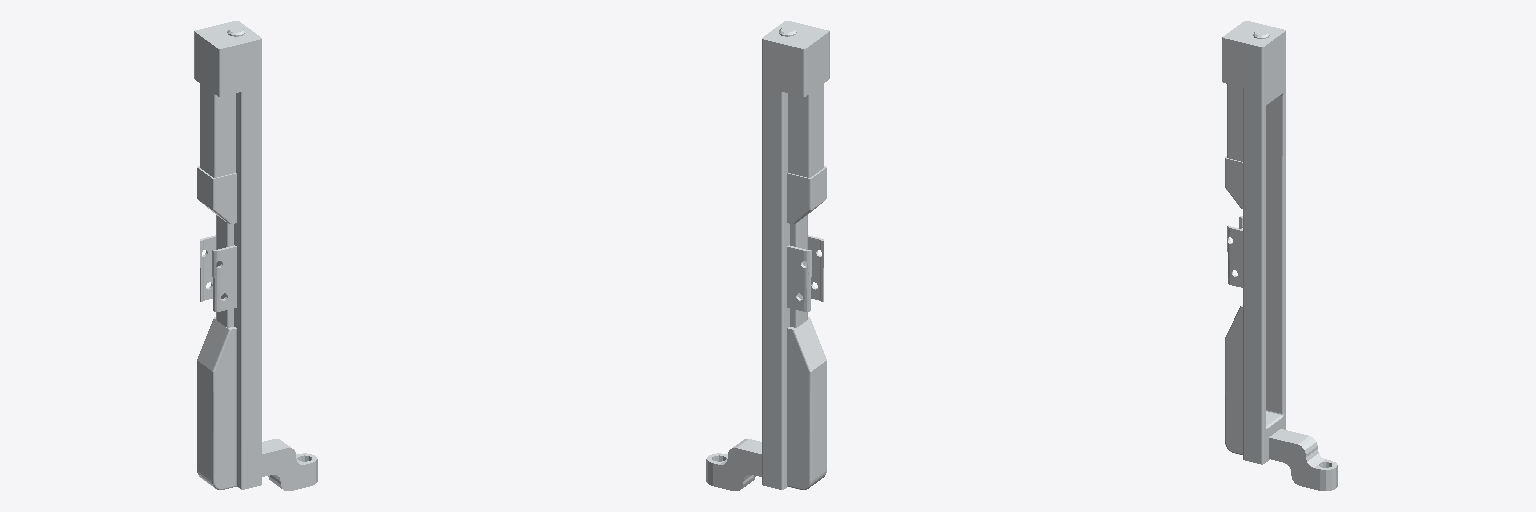
The robot description file, URDF, robot "ecm":
<?xml version="1.0" encoding="utf-8"?>
<!-- =================================================================================== -->
<!-- |    This document was autogenerated by xacro from ecm_launch.urdf.xacro          | -->
<!-- |    EDITING THIS FILE BY HAND IS NOT RECOMMENDED                                 | -->
<!-- =================================================================================== -->
<robot name="ecm">

    <!--  <link name="world"/>-->

    <link name="ecm_base_link">
        <inertial>
            <origin rpy="0 0 0" xyz="-0.0048227 0 0.068959"/>
            <mass value="2.6363"/>
            <inertia ixx="0" ixy="0" ixz="0" iyy="0" iyz="0" izz="0"/>
        </inertial>
        <visual>
            <origin rpy="0 0 0" xyz="0 0 0"/>
            <geometry>
                <mesh filename="meshes/visual/base_link.STL"/>
            </geometry>
            <material name="">
                <color rgba="0.64706 0.61961 0.58824 1"/>
            </material>
        </visual>
        <collision>
            <origin rpy="0 0 0" xyz="0 0 0"/>
            <geometry>
                <mesh filename="meshes/collision/base_link.STL"/>
            </geometry>
        </collision>
    </link>

    <link name="ecm_yaw_link">
        <inertial>
            <origin rpy="0 0 0" xyz="0 -0.029045 0.10669"/>
            <mass value="6.4168"/>
            <inertia ixx="0.00086598" ixy="0" ixz="0" iyy="0.0016561" iyz="-0.00015825" izz="0.00085001"/>
        </inertial>
        <visual>
            <origin rpy="0 0 0" xyz="0 0 0"/>
            <geometry>
                <mesh filename="meshes/visual/yaw_link.STL"/>
            </geometry>
            <material name="">
                <color rgba="0.64706 0.61961 0.58824 1"/>
            </material>
        </visual>
        <collision>
            <origin rpy="0 0 0" xyz="0 0 0"/>
            <geometry>
                <mesh filename="meshes/collision/yaw_link.STL"/>
            </geometry>
        </collision>
    </link>

    <joint name="ecm_yaw_joint" type="revolute">
        <origin rpy="1.57079632679 0 1.57079632679" xyz="0.0732 0 0.10146"/>
        <parent link="ecm_base_link"/>
        <child link="ecm_yaw_link"/>
        <axis xyz="0 0 1"/>
        <limit effort="1000" lower="-1.595183" upper="1.581733" velocity="10"/>
    </joint>

    <link name="ecm_pitch_front_link">
        <inertial>
            <origin rpy="0 0 0" xyz="-0.030619 -0.13578 0"/>
            <mass value="1.6069"/>
            <inertia ixx="0" ixy="0" ixz="0" iyy="0" iyz="0" izz="0"/>
        </inertial>
        <visual>
            <origin rpy="0 0 0" xyz="0 0 0"/>
            <geometry>
                <mesh filename="meshes/visual/pitch_front_link.STL"/>
            </geometry>
            <material name="">
                <color rgba="0.64706 0.61961 0.58824 1"/>
            </material>
        </visual>
        <collision>
            <origin rpy="0 0 0" xyz="0 0 0"/>
            <geometry>
                <mesh filename="meshes/collision/pitch_front_link.STL"/>
            </geometry>
        </collision>
    </link>

    <joint name="ecm_pitch_front_joint" type="revolute">
        <origin rpy="3.14159265359 -1.57079632679 0" xyz="0 0 0.1990"/>
        <parent link="ecm_yaw_link"/>
        <child link="ecm_pitch_front_link"/>
        <axis xyz="0 0 1"/>
        <limit effort="1000" lower="-0.783710" upper="1.157657" velocity="10"/>
    </joint>

    <link name="ecm_pitch_bottom_link">
        <inertial>
            <origin rpy="0 0 0" xyz="0.14594 -0.026715 -0.00016488"/>
            <mass value="0.35928"/>
            <inertia ixx="0.00023901" ixy="0.00022767" ixz="0" iyy="0.0030096" iyz="0" izz="0.0029617"/>
        </inertial>
        <visual>
            <origin rpy="0 0 0" xyz="0 0 0"/>
            <geometry>
                <mesh filename="meshes/visual/pitch_bottom_link.STL"/>
            </geometry>
            <material name="">
                <color rgba="0.25098 0.25098 0.25098 1"/>
            </material>
        </visual>
        <collision>
            <origin rpy="0 0 0" xyz="0 0 0"/>
            <geometry>
                <mesh filename="meshes/collision/pitch_bottom_link.STL"/>
            </geometry>
        </collision>
    </link>

    <joint name="ecm_pitch_bottom_joint" type="revolute">
        <origin rpy="0 0 0" xyz="-0.1030 -0.2868 0"/>
        <parent link="ecm_pitch_front_link"/>
        <child link="ecm_pitch_bottom_link"/>
        <axis xyz="0 0 1"/>
        <limit effort="1000" lower="-1.157657" upper="0.783710" velocity="10"/>
        <mimic joint="ecm_pitch_front_joint" multiplier="-1"/>
    </joint>

    <link name="ecm_pitch_end_link">
        <inertial>
            <origin rpy="0 0 0" xyz="0.018122 -0.027143 0.00078916"/>
            <mass value="2.0321"/>
            <inertia ixx="0" ixy="0" ixz="0" iyy="0" iyz="0" izz="0"/>
        </inertial>
        <visual>
            <origin rpy="0 0 0" xyz="0 0 0"/>
            <geometry>
                <mesh filename="meshes/visual/pitch_end_link.STL"/>
            </geometry>
            <material name="">
                <color rgba="0.89804 0.91765 0.92941 1"/>
            </material>
        </visual>
        <collision>
            <origin rpy="0 0 0" xyz="0 0 0"/>
            <geometry>
                <mesh filename="meshes/collision/pitch_end_link.STL"/>
            </geometry>
        </collision>
    </link>

    <joint name="ecm_pitch_end_joint" type="revolute">
        <origin rpy="0 0 0" xyz="0.3404 -0.000135620545844151 0"/>
        <parent link="ecm_pitch_bottom_link"/>
        <child link="ecm_pitch_end_link"/>
        <axis xyz="0 0 1"/>
        <limit effort="1000" lower="-0.783710" upper="1.157657" velocity="10"/>
        <mimic joint="ecm_pitch_front_joint" multiplier="1"/>
    </joint>

    <link name="ecm_main_insertion_link">
        <inertial>
            <origin rpy="0 0 0" xyz="0.0086165 -0.00079249 -0.047928"/>
            <mass value="0.23108"/>
            <inertia ixx="0" ixy="0" ixz="0" iyy="0" iyz="0" izz="0"/>
        </inertial>
        <visual>
            <origin rpy="0 0 0" xyz="0 0 0"/>
            <geometry>
                <mesh filename="meshes/visual/main_insertion_link.STL"/>
            </geometry>
            <material name="">
                <color rgba="0.25098 0.25098 0.25098 1"/>
            </material>
        </visual>
        <collision>
            <origin rpy="0 0 0" xyz="0 0 0"/>
            <geometry>
                <mesh filename="meshes/collision/main_insertion_link.STL"/>
            </geometry>
        </collision>
    </link>

    <joint name="ecm_main_insertion_joint" type="prismatic">
        <origin rpy="-1.57079632679 0 0" xyz="0.042 -0.086143 0"/>
        <parent link="ecm_pitch_end_link"/>
        <child link="ecm_main_insertion_link"/>
        <axis xyz="0 0 1"/>
        <limit effort="50" lower="0" upper="0.254193" velocity="100"/>
    </joint>

    <link name="ecm_tool_link">
        <inertial>
            <origin rpy="0 0 0" xyz="0 -0.0007925 -0.10732"/>
            <mass value="1.9074"/>
            <inertia ixx="0" ixy="0" ixz="0" iyy="0" iyz="0" izz="0"/>
        </inertial>
        <visual>
            <origin rpy="0 0 0" xyz="0 0 0"/>
            <geometry>
                <mesh filename="meshes/visual/tool_link.STL"/>
            </geometry>
            <material name="">
                <color rgba="0.75294 0.75294 0.75294 1"/>
            </material>
        </visual>
        <collision>
            <origin rpy="0 0 0" xyz="0 0 0"/>
            <geometry>
                <mesh filename="meshes/collision/tool_link.STL"/>
            </geometry>
        </collision>
    </link>

    <joint name="ecm_tool_joint" type="revolute">
        <origin rpy="0 0 0" xyz="0.0610 0 0"/>
        <parent link="ecm_main_insertion_link"/>
        <child link="ecm_tool_link"/>
        <axis xyz="0 0 -1"/>
        <limit effort="1000" lower="-1.552676" upper="1.566741" velocity="10"/>
    </joint>

    <link name="ecm_pitch_top_link">
        <inertial>
            <origin rpy="0 0 0" xyz="0.1702 0 0.0007925"/>
            <mass value="0.43851"/>
            <inertia ixx="0" ixy="0" ixz="0" iyy="0" iyz="0" izz="0"/>
        </inertial>
        <visual>
            <origin rpy="0 0 0" xyz="0 0 0"/>
            <geometry>
                <mesh filename="meshes/visual/pitch_top_link.STL"/>
            </geometry>
            <material name="">
                <color rgba="0.64706 0.51765 0 1"/>
            </material>
        </visual>
        <collision>
            <origin rpy="0 0 0" xyz="0 0 0"/>
            <geometry>
                <mesh filename="meshes/collision/pitch_top_link.STL"/>
            </geometry>
        </collision>
    </link>

    <joint name="ecm_pitch_top_joint" type="revolute">
        <origin rpy="0 0 0" xyz="-0.10847228839493 -0.324257434492051 0"/>
        <parent link="ecm_pitch_front_link"/>
        <child link="ecm_pitch_top_link"/>
        <axis xyz="0 0 1"/>
        <limit effort="1000" lower="-1.157657" upper="0.783710" velocity="10"/>
        <mimic joint="ecm_pitch_front_joint" multiplier="-1"/>
    </joint>

    <link name="ecm_pitch_back_link">
        <inertial>
            <origin rpy="0 0 0" xyz="-0.032853 -0.14997 -0.0080613"/>
            <mass value="0.4214"/>
            <inertia ixx="0" ixy="0" ixz="0" iyy="0" iyz="0" izz="0"/>
        </inertial>
        <visual>
            <origin rpy="0 0 0" xyz="0 0 0"/>
            <geometry>
                <mesh filename="meshes/visual/pitch_back_link.STL"/>
            </geometry>
            <material name="">
                <color rgba="0.64706 0.51765 0 1"/>
            </material>
        </visual>
        <collision>
            <origin rpy="0 0 0" xyz="0 0 0"/>
            <geometry>
                <mesh filename="meshes/collision/pitch_back_link.STL"/>
            </geometry>
        </collision>
    </link>

    <joint name="ecm_pitch_back_joint" type="revolute">
        <origin rpy="3.14159265359 -1.57079632679 0" xyz="0 -0.0098 0.16243"/>
        <parent link="ecm_yaw_link"/>
        <child link="ecm_pitch_back_link"/>
        <axis xyz="0 0 1"/>
        <limit effort="1000" lower="-0.783710" upper="1.157657" velocity="10"/>
        <mimic joint="ecm_pitch_front_joint" multiplier="1"/>
    </joint>

    <link name="ecm_remote_center_link">
        <inertial>
            <origin rpy="0 0 0" xyz="0 0 0"/>
            <mass value="0.004482"/>
            <inertia ixx="0" ixy="0" ixz="0" iyy="0" iyz="0" izz="0"/>
        </inertial>
        <visual>
            <origin rpy="0 0 0" xyz="0 0 0"/>
            <geometry>
                <mesh filename="meshes/visual/remote_center_link.STL"/>
            </geometry>
            <material name="">
                <color rgba="1 1 1 1"/>
            </material>
        </visual>
        <collision>
            <origin rpy="0 0 0" xyz="0 0 0"/>
            <geometry>
                <mesh filename="meshes/collision/remote_center_link.STL"/>
            </geometry>
        </collision>
    </link>

    <joint name="ecm_remote_center_joint" type="fixed">
        <origin rpy="0 0 -1.57079632679" xyz="0.6126 0 0.1016"/>
        <parent link="ecm_base_link"/>
        <child link="ecm_remote_center_link"/>
        <axis xyz="0 0 0"/>
    </joint>

    <link name="ecm_end_link"/>

    <joint name="ecm_end_joint" type="fixed">
        <origin rpy="0 0 0" xyz="0 0 0.37364"/>
        <parent link="ecm_tool_link"/>
        <child link="ecm_end_link"/>
        <axis xyz="0 0 0"/>
    </joint>
</robot>

--- Render facts (derived) ---
Views: 3 orthographic renders of the robot side by side, from view 1: azimuth 30°, elevation 25°; view 2: azimuth 150°, elevation 25°; view 3: azimuth 330°, elevation 25°.
Model ecm with 11 links and 10 joints (7 revolute, 1 prismatic, 2 fixed), rooted at ecm_base_link, posed every joint at zero.
Visible links, largest first — view 1: ecm_pitch_end_link; view 2: ecm_pitch_end_link; view 3: ecm_pitch_end_link.
Boxes of the visible links, x1=… form: ecm_pitch_end_link: x1=194, y1=21, x2=317, y2=490; ecm_pitch_end_link: x1=706, y1=21, x2=829, y2=490; ecm_pitch_end_link: x1=1222, y1=21, x2=1337, y2=490.
Size in the robot's own frame: 0.1287 by 0.051 by 0.5186 metres.
1 mesh visuals loaded from 10 distinct referenced files (1 binary STL); not drawn: 9 (reference not matched to a file when rendering).